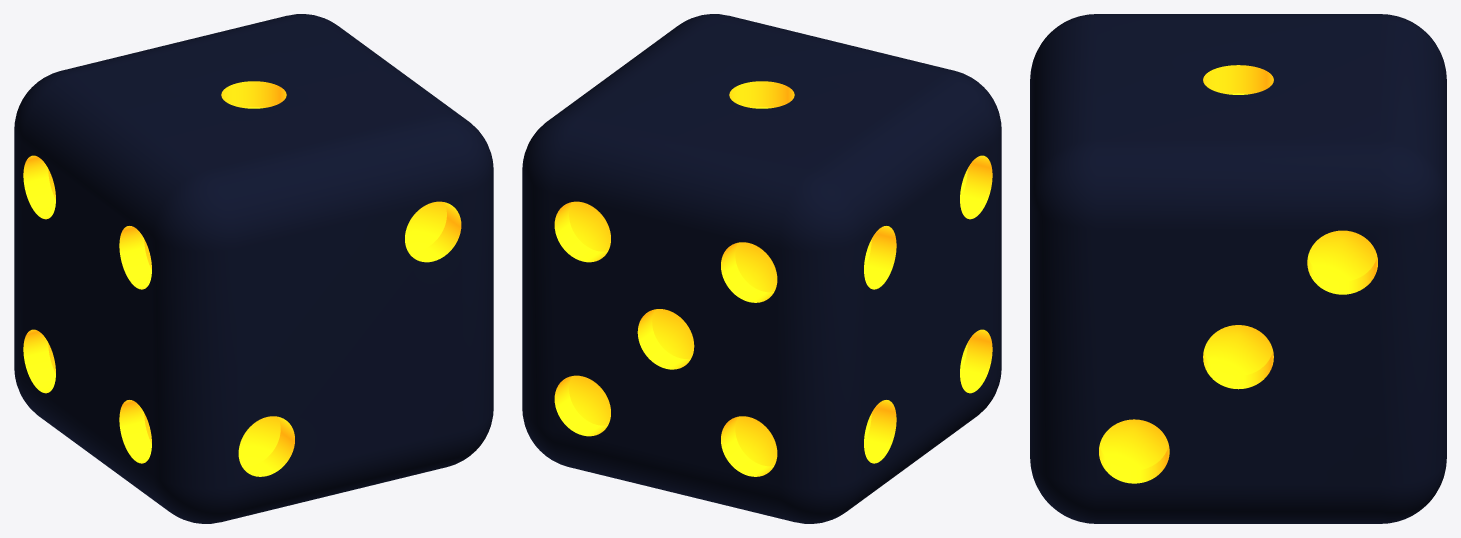
3 views of the same model, side by side, from view 1: azimuth 30°, elevation 25°; view 2: azimuth 150°, elevation 25°; view 3: azimuth 270°, elevation 25° (orthographic). The views are drawn at different scales.
Visible parts, largest first — view 1: MP_D6; view 2: MP_D6; view 3: MP_D6.
Part boxes in pixels (left/top/right/bottom): MP_D6: left=14, top=14, right=493, bottom=523; MP_D6: left=522, top=14, right=1001, bottom=523; MP_D6: left=1030, top=14, right=1446, bottom=523.
Bounding box in the file's own units: 1 × 1 × 1.
